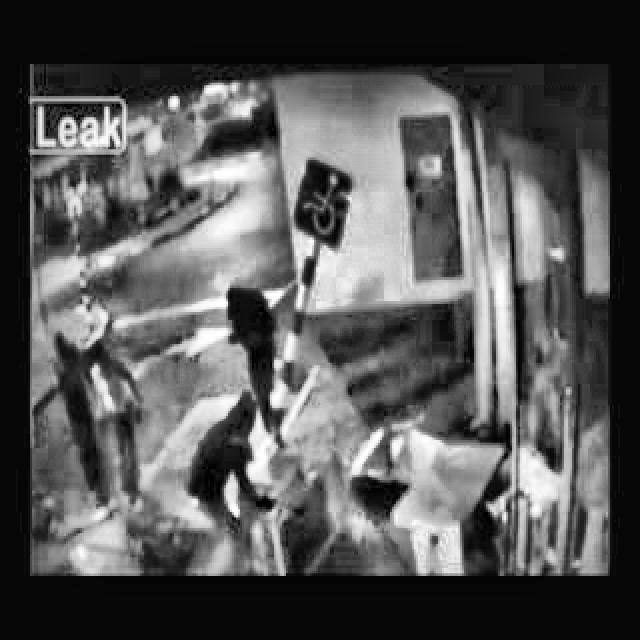burglary: (47, 278, 608, 574)
